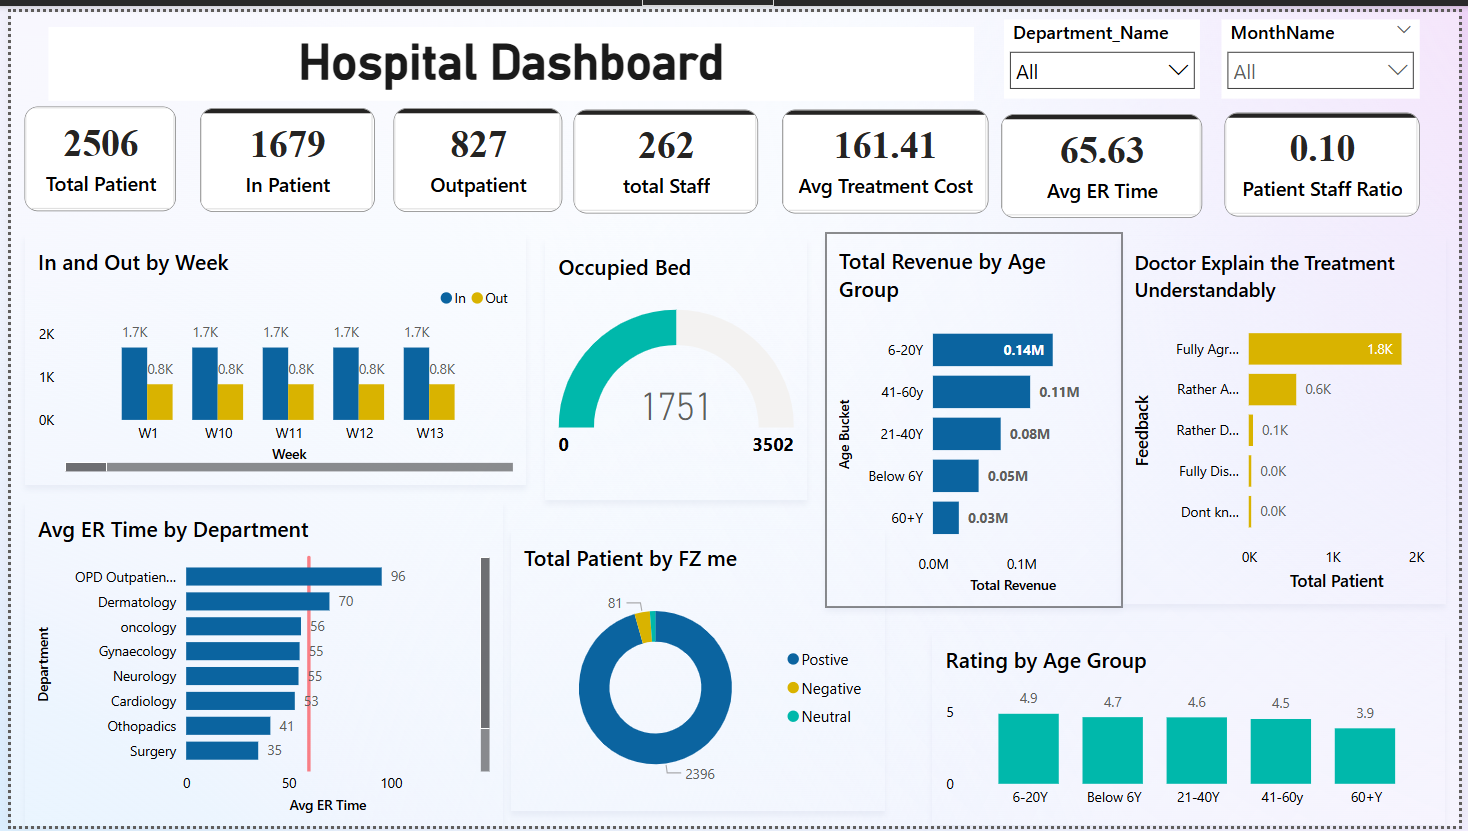

The dashboard page shown, as its layout file describes it:
{"tool":"powerbi","page":{"name":"Hospital Summary ","canvas":[1280,720],"ordinal":0},"visuals":[{"type":"cardVisual","fields":{"Data":["Measure.Total Patient"]},"box":[11.9,83.6,134,92.9],"z":1000},{"type":"textbox","box":[33.2,13.3,818.6,65],"z":2000},{"type":"slicer","fields":{"Values":["Department.Department_Name"]},"box":[878.9,6.1,173.6,69.7],"z":3000},{"type":"slicer","fields":{"Values":["Calendar_date.MonthName"]},"box":[1070.7,6.6,175.1,70.3],"z":4000},{"type":"cardVisual","fields":{"Data":["Measure.In Patient"]},"box":[167.3,85,154.9,91.9],"z":5000},{"type":"cardVisual","fields":{"Data":["Measure.Outpatient"]},"box":[338.6,85,149.4,91.9],"z":6000},{"type":"cardVisual","fields":{"Data":["Bed_Detail.total Staff"]},"box":[497.7,86.4,163.2,91.9],"z":7000},{"type":"cardVisual","fields":{"Data":["Measure.Avg Treatment Cost"]},"box":[681.4,86.4,182.3,91.9],"z":8000},{"type":"cardVisual","fields":{"Data":["Measure.Avg ER Time"]},"box":[876.1,90.5,178.2,91.9],"z":9000},{"type":"cardVisual","fields":{"Data":["Bed_Detail.Patient Staff Ratio"]},"box":[1073.5,89.1,172.8,91.9],"z":10000},{"type":"clusteredColumnChart","fields":{"Y":["Calendar_date.In Patient","Calendar_date.Outpatient"],"Category":["Calendar_date.WeekName"]},"box":[12.3,196.1,444.2,222.1],"z":11000},{"type":"gauge","fields":{"Y":["Divide(Measure.Occupied Bed, ScopedEval(Measure.Occupied Bed, []))"]},"box":[471.9,200.5,232.3,231],"z":12000},{"type":"clusteredBarChart","title":"Total Revenue by Age Group","fields":{"Y":["Measure.Total Revenue"],"Category":["Detail data dataset.Age Bucket"]},"box":[720,195.6,262.8,331.3],"z":13000},{"type":"barChart","fields":{"Y":["Measure.Avg ER Time"],"Category":["Department.Department_Name"]},"box":[12.3,431.9,423.7,287.9],"z":14000},{"type":"barChart","title":"Doctor Explain the Treatment Understandably","fields":{"Y":["Measure.Total Patient"],"Category":["Detail data dataset.Feedback"]},"box":[981.2,197.5,287.5,326.2],"z":15000},{"type":"columnChart","title":"Rating by Age Group","fields":{"Y":["Measure.Rating"],"Category":["Detail data dataset.Age Bucket"]},"box":[814.4,548.4,453.8,171.4],"z":16000},{"type":"donutChart","fields":{"Y":["Measure.Total Patient"],"Category":["Detail data dataset.FZ me"]},"box":[441.3,457.2,331.3,249.4],"z":17000}]}

Visuals, with their boxes in screenshot pixels (x1, y1, x2, y2), scaled from the page's 1280x720 canvas onto the 1468x831 screenshot:
cardVisual - Measure.Total Patient: BBox(14, 96, 167, 204)
textbox: BBox(38, 15, 977, 90)
slicer - Department.Department_Name: BBox(1008, 7, 1207, 87)
slicer - Calendar_date.MonthName: BBox(1228, 8, 1429, 89)
cardVisual - Measure.In Patient: BBox(192, 98, 370, 204)
cardVisual - Measure.Outpatient: BBox(388, 98, 560, 204)
cardVisual - Bed_Detail.total Staff: BBox(571, 100, 758, 206)
cardVisual - Measure.Avg Treatment Cost: BBox(781, 100, 991, 206)
cardVisual - Measure.Avg ER Time: BBox(1005, 104, 1209, 211)
cardVisual - Bed_Detail.Patient Staff Ratio: BBox(1231, 103, 1429, 209)
clusteredColumnChart - Calendar_date.In Patient x Calendar_date.Outpatient: BBox(14, 226, 524, 483)
gauge - Divide(Measure.Occupied Bed, ScopedEval(Measure.Occupied Bed, [])): BBox(541, 231, 808, 498)
"Total Revenue by Age Group" clusteredBarChart: BBox(826, 226, 1127, 608)
barChart - Measure.Avg ER Time x Department.Department_Name: BBox(14, 498, 500, 830)
"Doctor Explain the Treatment Understandably" barChart: BBox(1125, 228, 1455, 604)
"Rating by Age Group" columnChart: BBox(934, 633, 1454, 830)
donutChart - Measure.Total Patient x Detail data dataset.FZ me: BBox(506, 528, 886, 816)
